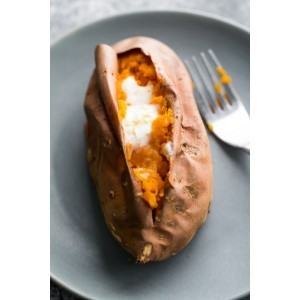sweet potato_brain food: (92, 68, 210, 253)
